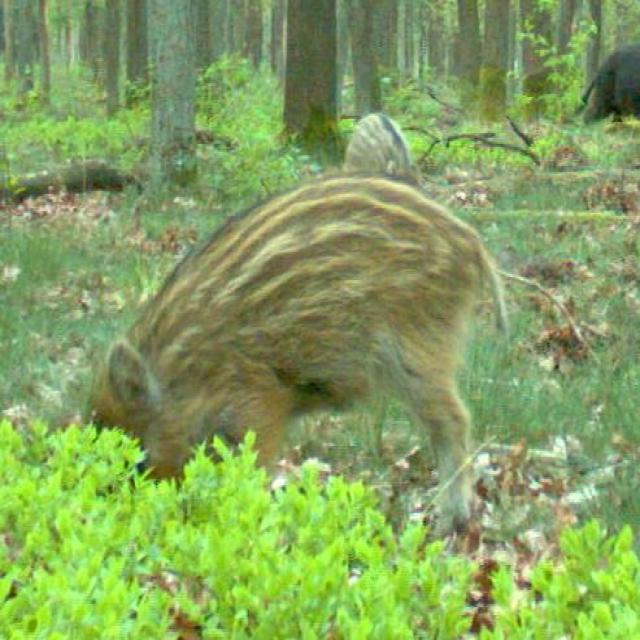pig: (72, 160, 518, 537)
